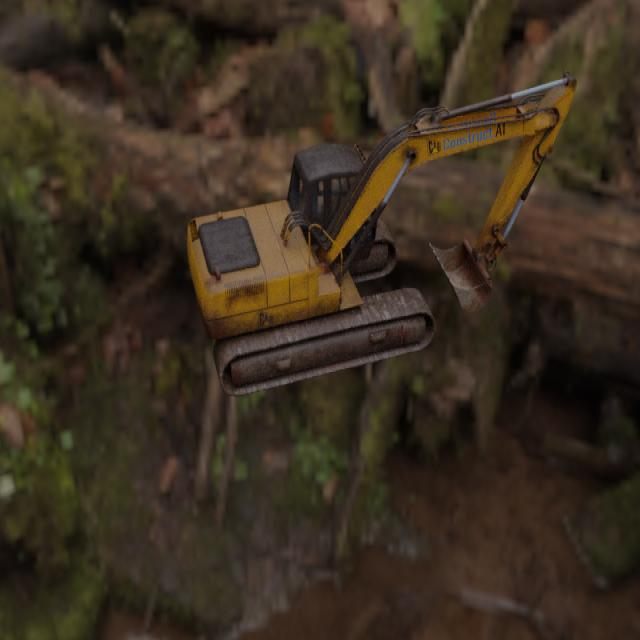excavator: (186, 70, 577, 398)
